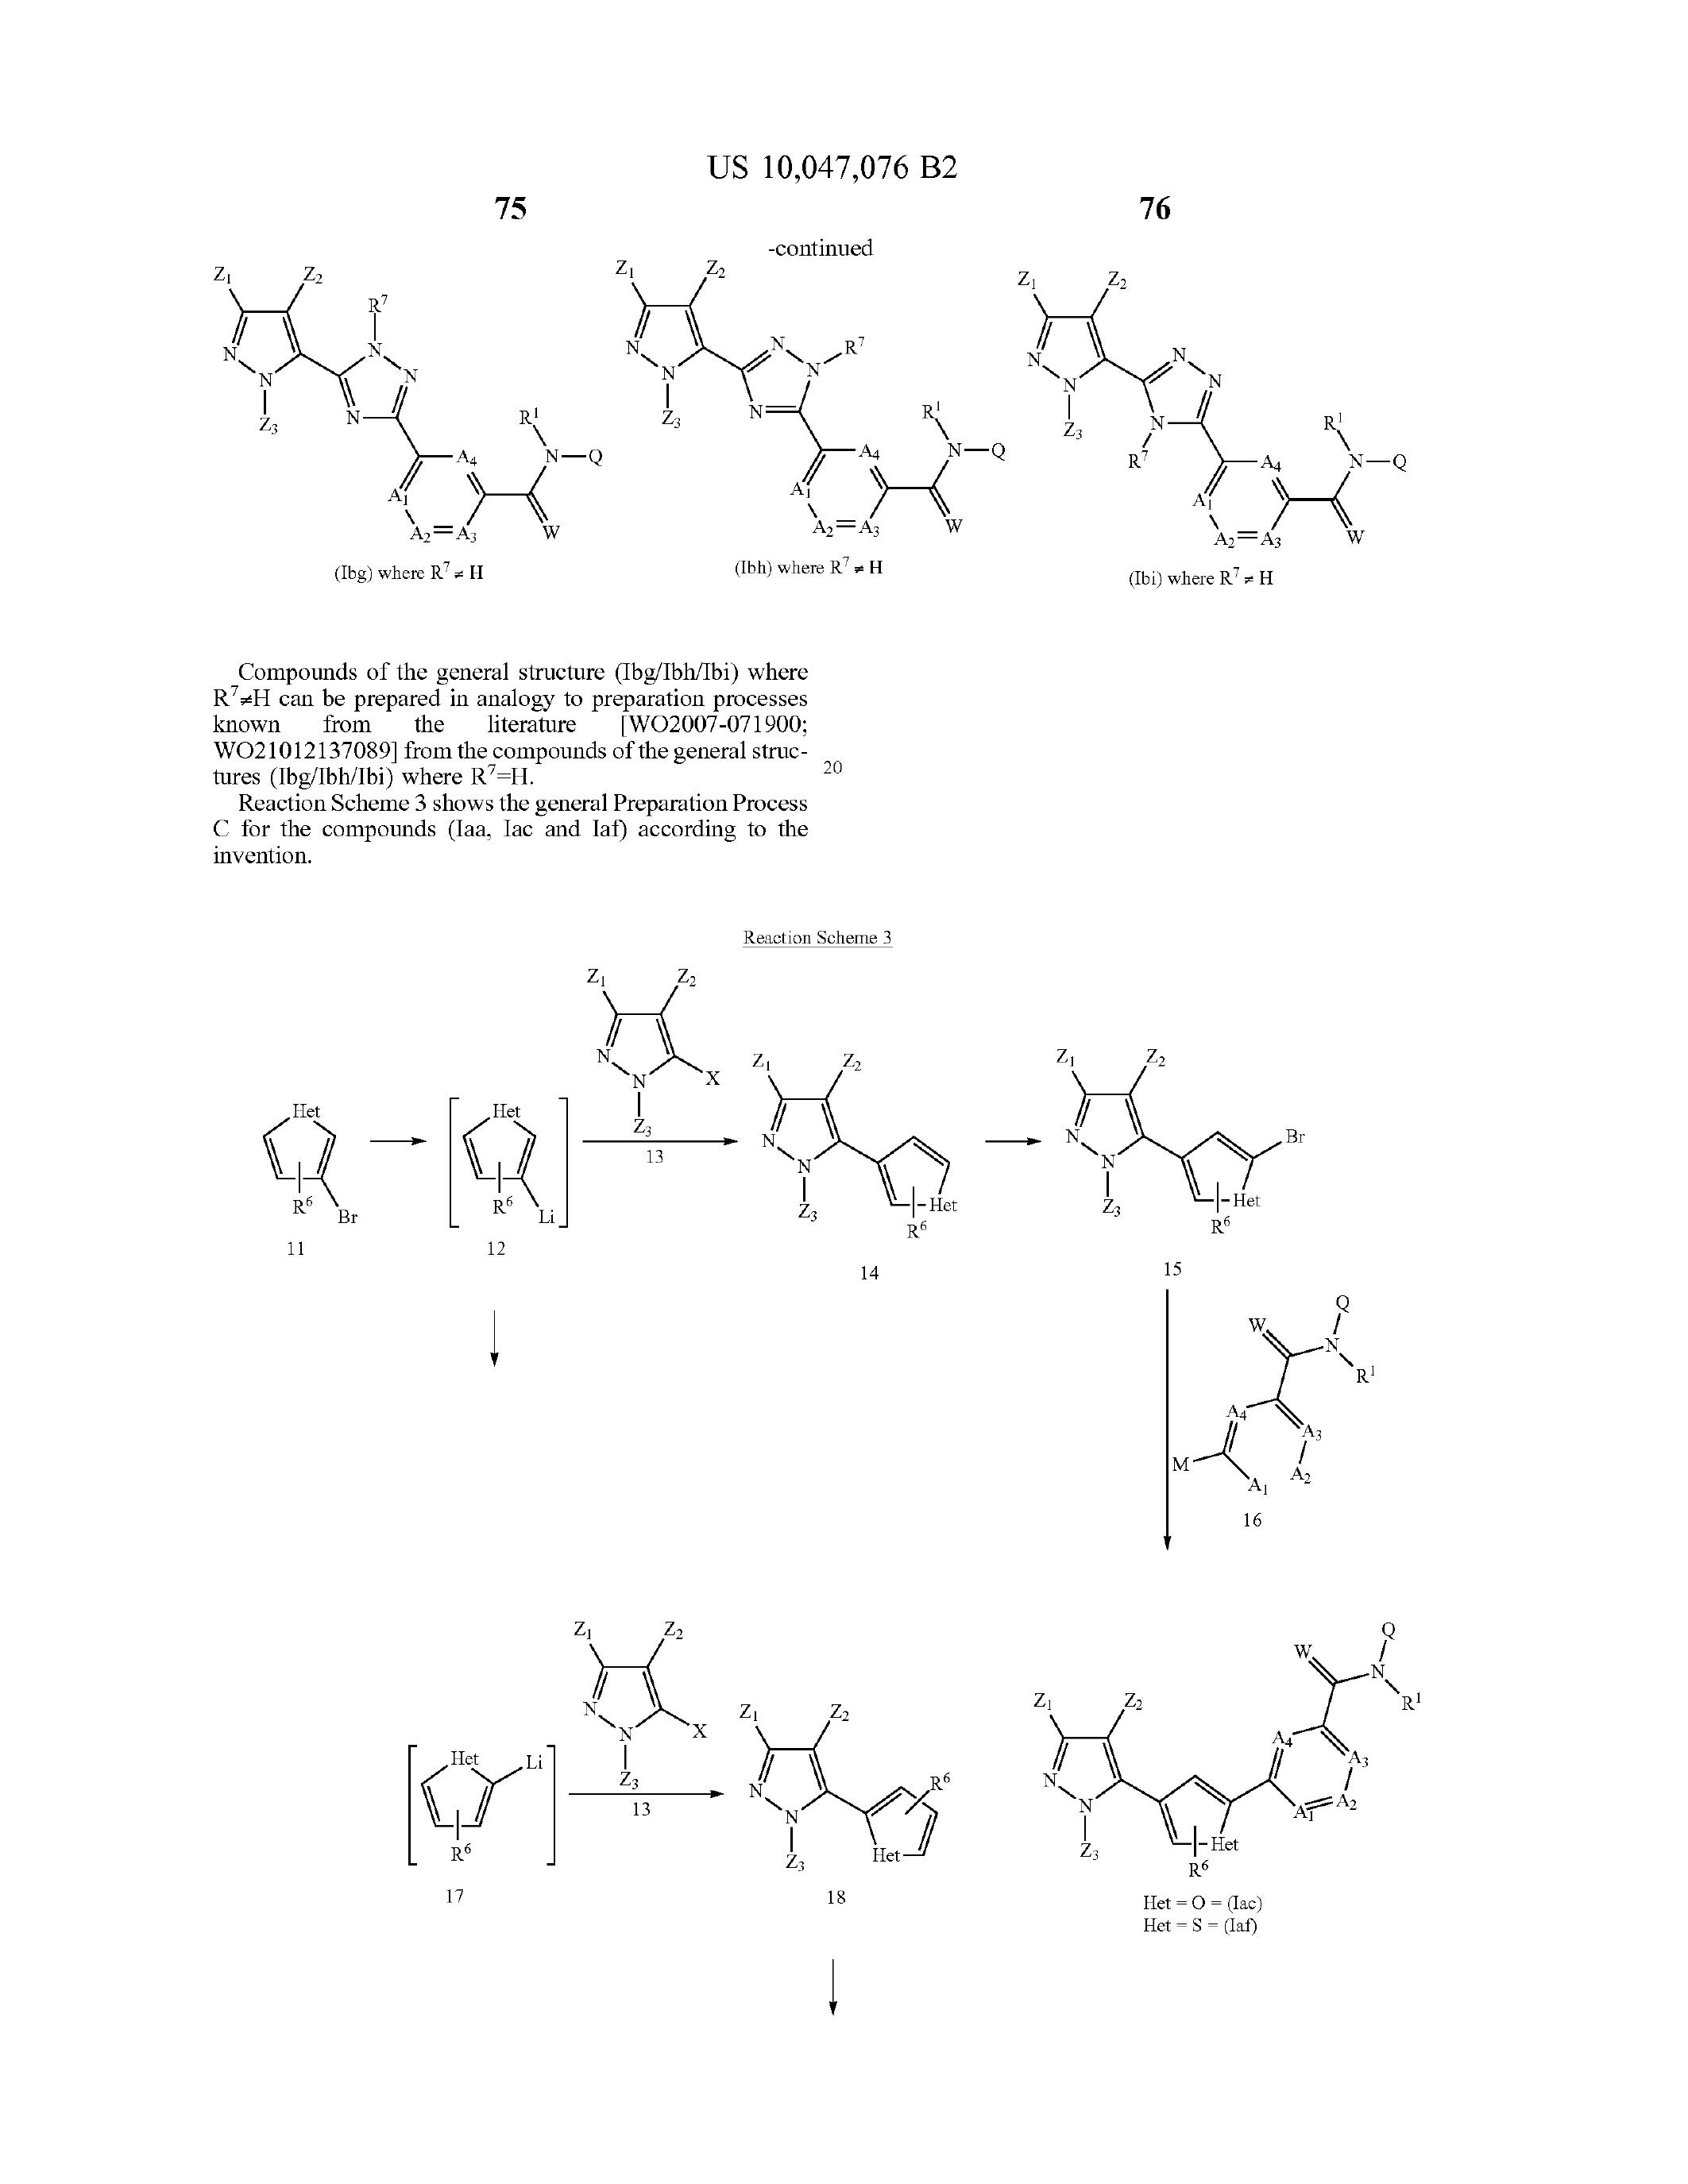markush-structures: (101, 170, 1504, 601)
